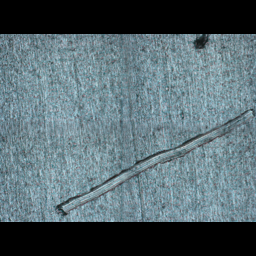d: (52, 106, 255, 216)
